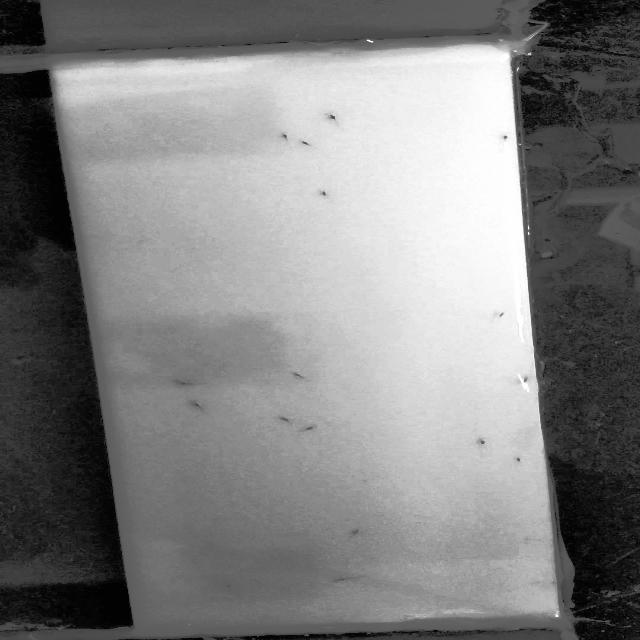shrimp: (217, 577, 248, 597), (295, 421, 330, 435), (506, 450, 530, 470), (338, 528, 372, 540), (328, 574, 368, 584), (172, 377, 208, 388), (468, 437, 496, 451), (286, 370, 316, 383), (291, 139, 324, 150), (184, 398, 212, 410), (312, 188, 339, 200), (278, 127, 298, 143), (274, 413, 301, 424), (508, 374, 532, 386), (497, 303, 513, 320), (328, 114, 348, 126), (488, 134, 511, 143)
